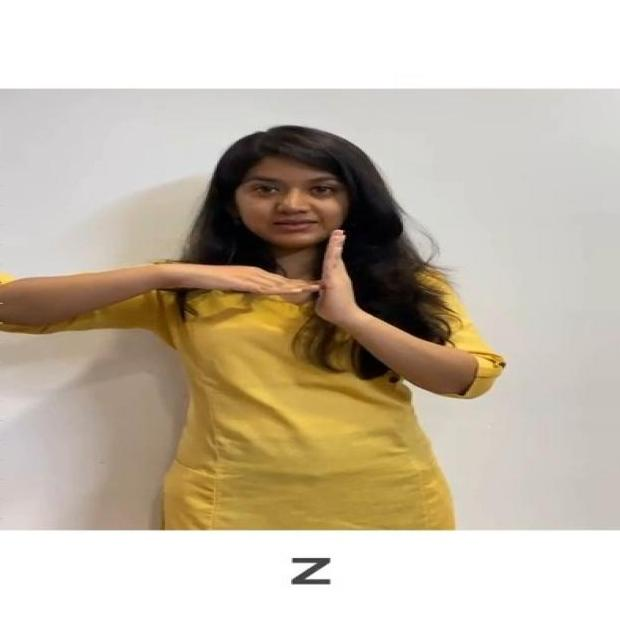Y: (166, 225, 381, 333)
